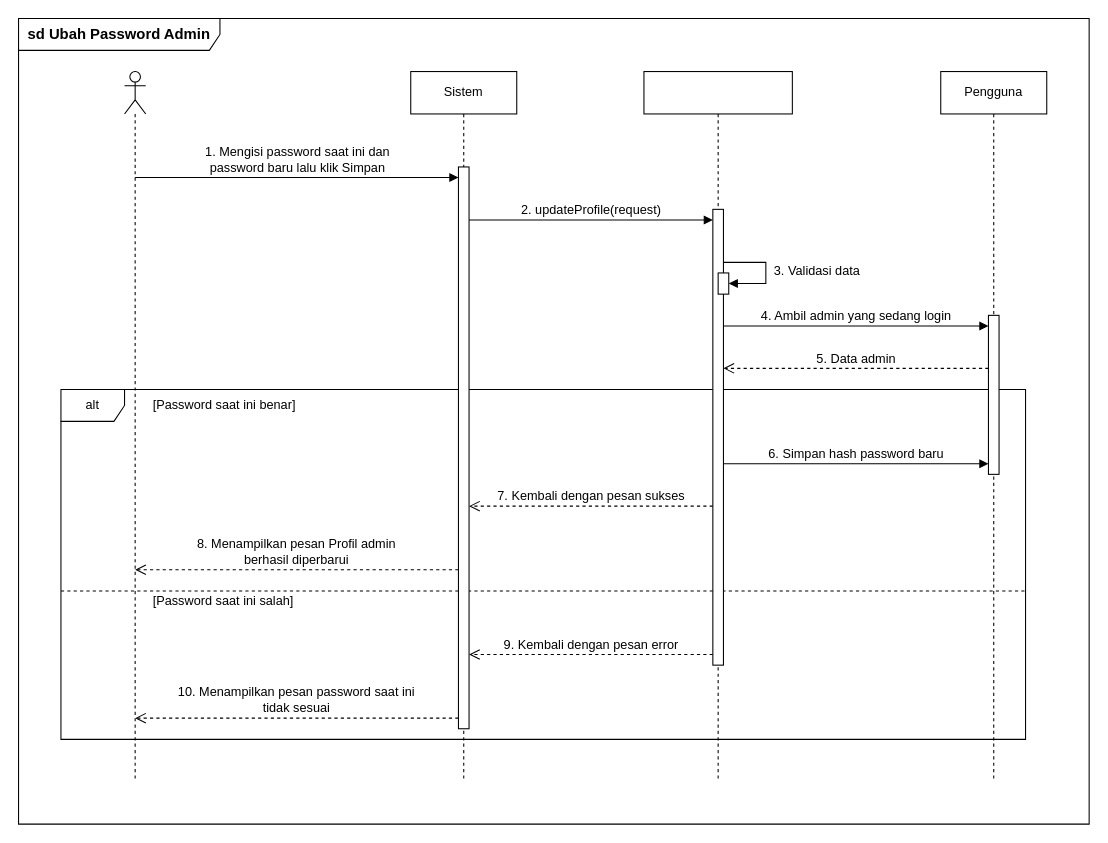
Some shapes in this 1108 by 843 pixel diagram are drawn without their labels. Each missing label, with the box of its shape:
Admin: (123, 70, 146, 782)
SettingController: (643, 70, 792, 782)
